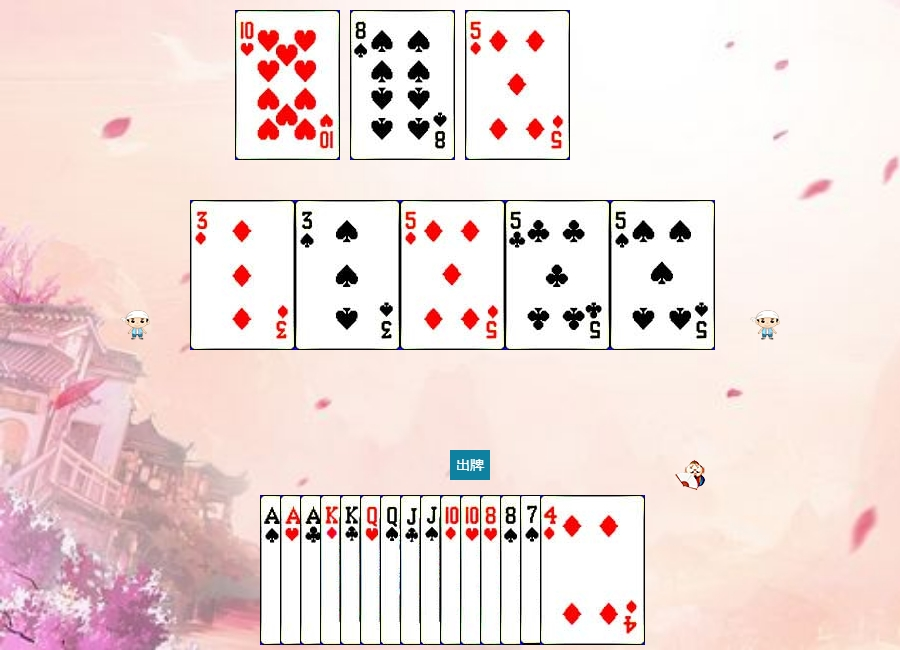10~1: (440, 495, 545, 645)
10~3: (235, 10, 340, 160), (460, 495, 565, 645)
11~2: (400, 495, 505, 645)
11~4: (420, 495, 525, 645)
12~3: (360, 495, 465, 645)
12~4: (380, 495, 485, 645)
13~1: (320, 495, 425, 645)
13~2: (340, 495, 445, 645)
14~2: (300, 495, 405, 645)
14~3: (280, 495, 385, 645)
14~4: (260, 495, 365, 645)
3~1: (190, 200, 295, 350)
3~4: (295, 200, 400, 350)
4~1: (540, 495, 645, 645)
5~1: (465, 10, 570, 160), (400, 200, 505, 350)
5~2: (505, 200, 610, 350)
5~4: (610, 200, 715, 350)
7~4: (520, 495, 625, 645)
8~3: (480, 495, 585, 645)
8~4: (350, 10, 455, 160), (500, 495, 605, 645)
